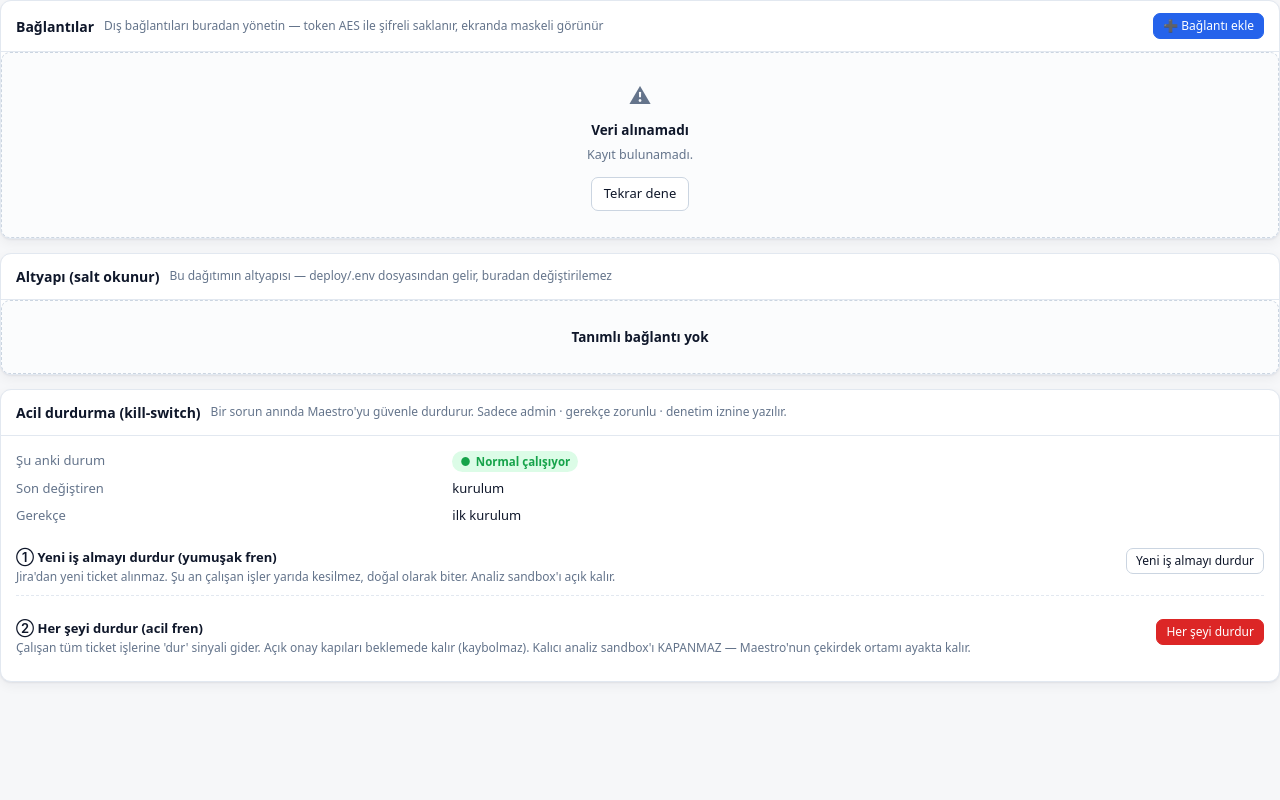
Test: kill switch › is a two-step action with a reason, never a bare toggle
This screenshot has width=1280, height=800.
Click the button "Yeni iş almayı durdur" at point(1195, 561), box [1126,548,1264,574]
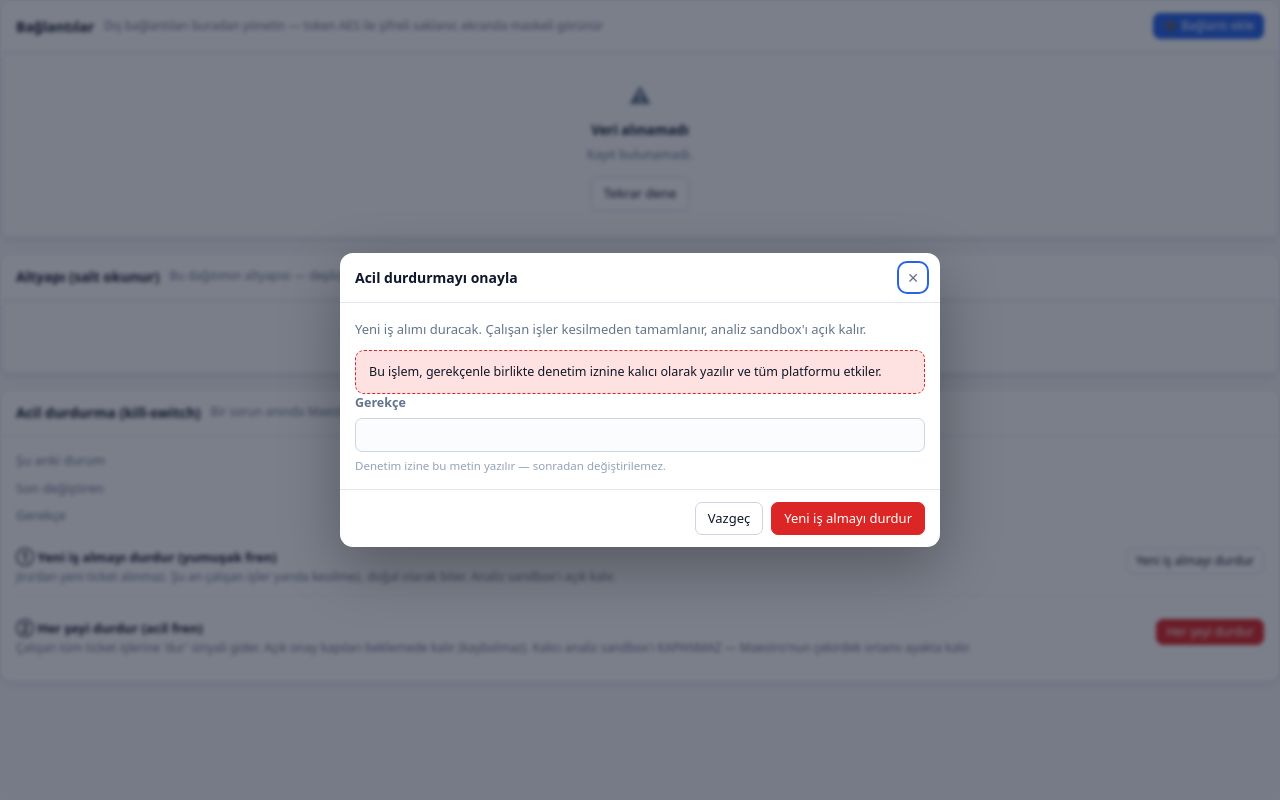
And the confirmation refuses to submit without a written reason.
Click the button "Yeni iş almayı durdur" at point(848, 519), box [771,502,925,535]
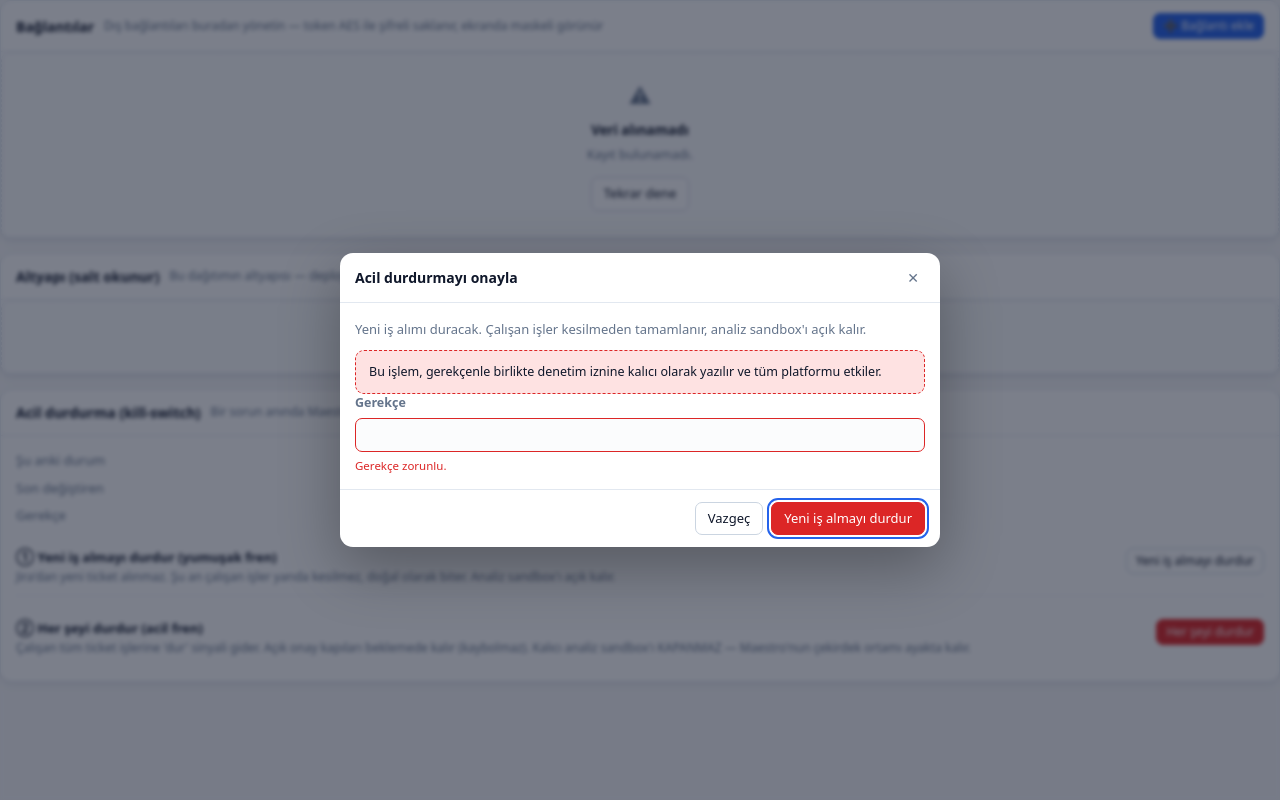
Expected: the text "Gerekçe zorunlu." is shown, [355,458,446,473]
